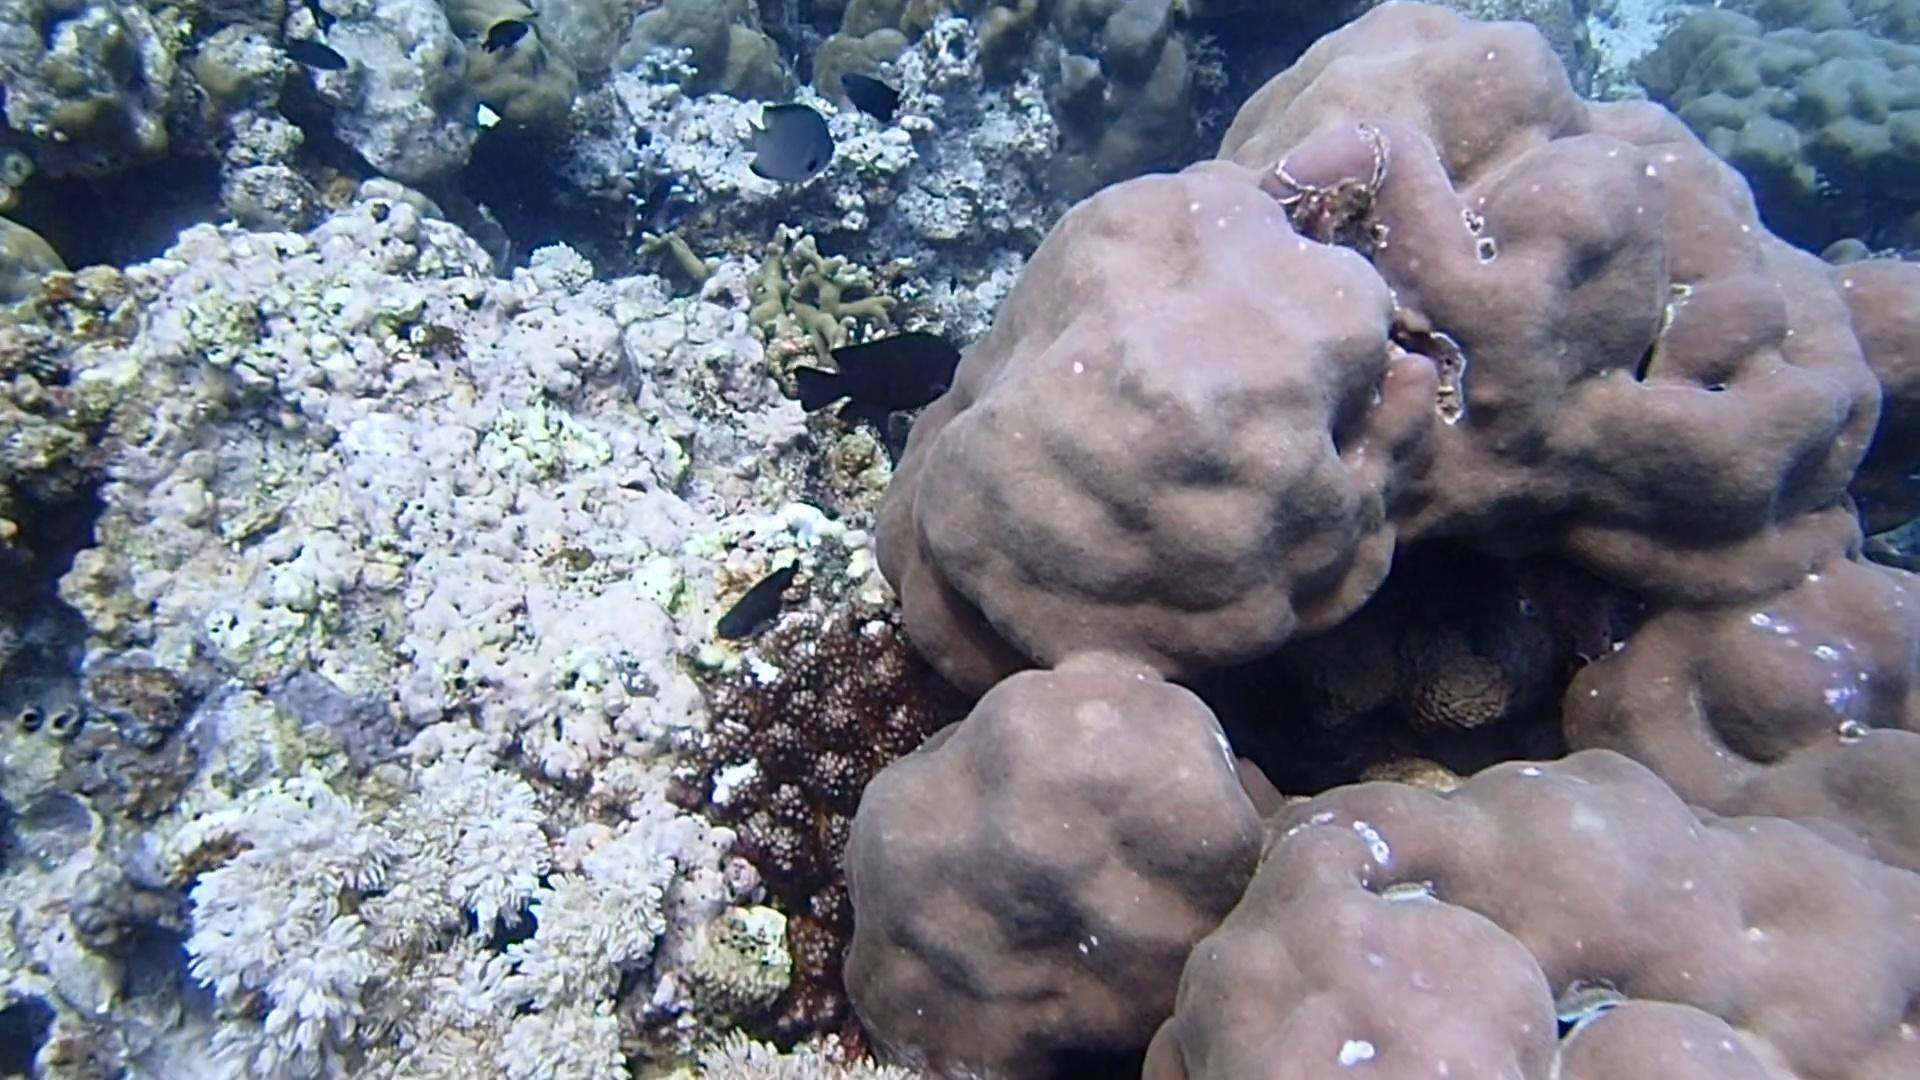Dark Fish: (779, 319, 980, 435), (703, 547, 808, 653), (835, 62, 911, 136), (277, 26, 351, 84), (477, 11, 531, 58)
Light Fish - Dark Fin: (729, 94, 848, 193)
